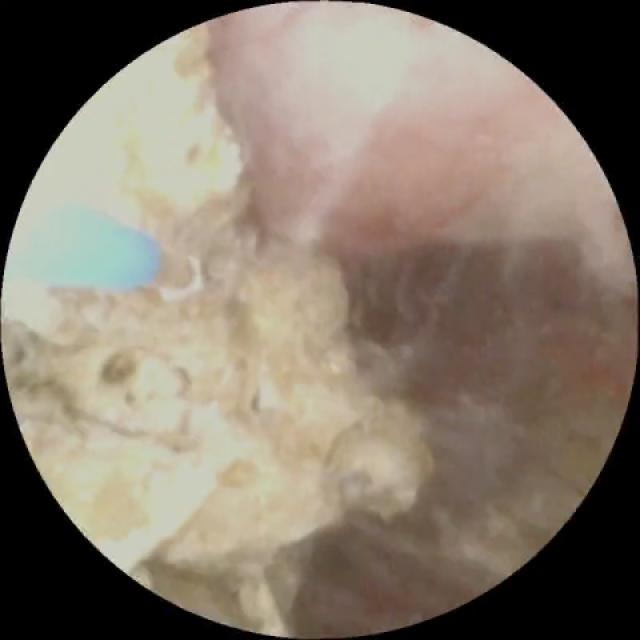fiber: (22, 201, 156, 281)
stone: (8, 34, 429, 625)
